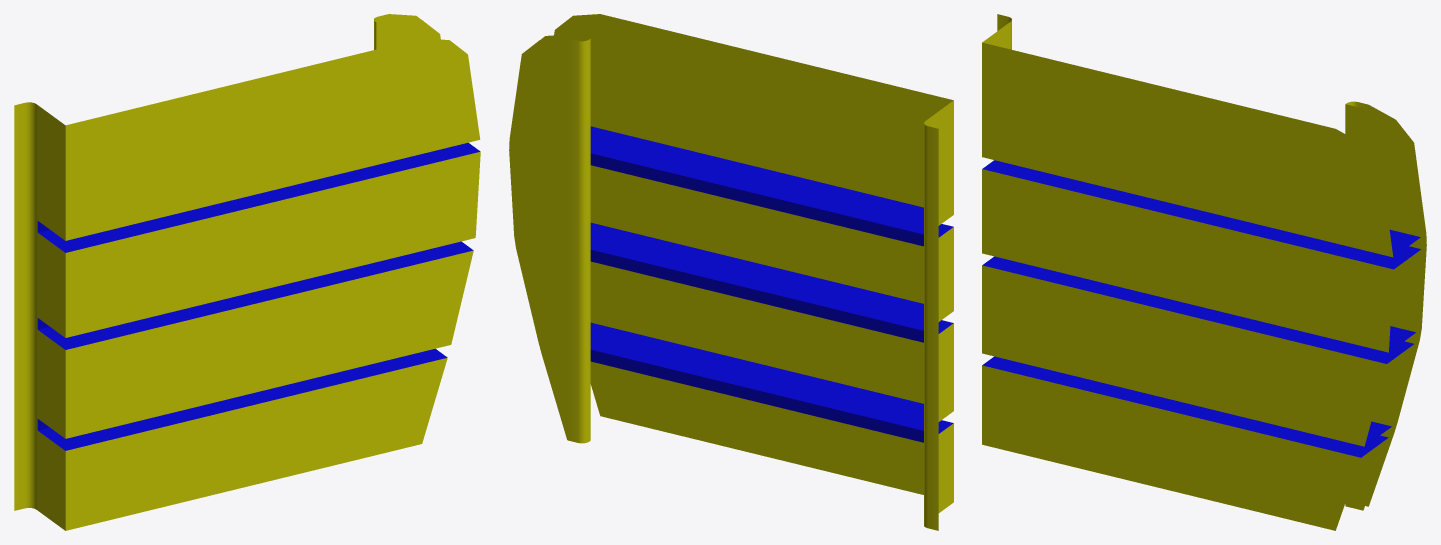
File: Wardrobe.fbx
3 views of the same model, side by side, from view 1: azimuth 30°, elevation 25°; view 2: azimuth 150°, elevation 25°; view 3: azimuth 330°, elevation 25° (orthographic).
Visible parts, largest first — view 1: Wardrobe; view 2: Wardrobe; view 3: Wardrobe.
Part boxes in pixels (<box>): Wardrobe: <box>14,14,480,530</box>; Wardrobe: <box>509,14,953,530</box>; Wardrobe: <box>982,14,1426,530</box>.
Bounding box in the file's own units: 335 × 300 × 44.63.
